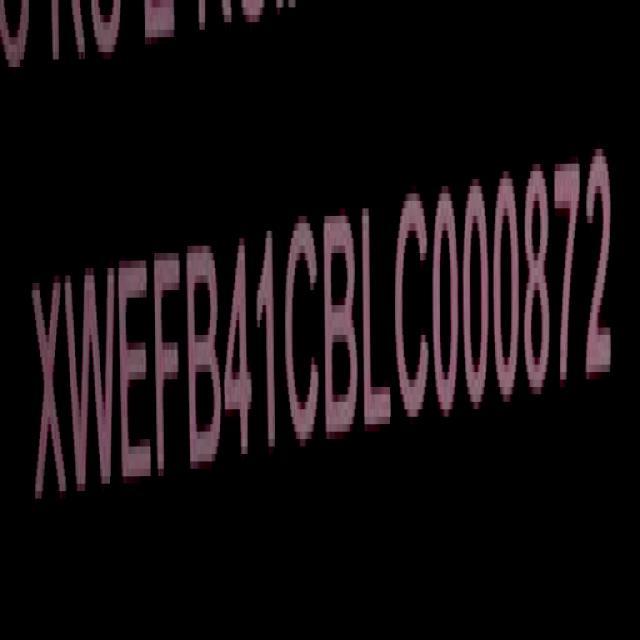0: (433, 185, 462, 423), (461, 176, 489, 416), (494, 174, 522, 410)
1: (257, 226, 278, 467)
2: (587, 146, 617, 391)
4: (225, 235, 253, 474)
7: (553, 153, 581, 400)
8: (523, 164, 551, 402)
B: (324, 208, 360, 452), (190, 245, 224, 485)
C: (286, 215, 324, 462), (396, 191, 432, 431)
E: (118, 250, 154, 503)
F: (155, 245, 186, 497)
L: (364, 204, 393, 443)
W: (67, 256, 119, 507)
X: (33, 269, 68, 518)
